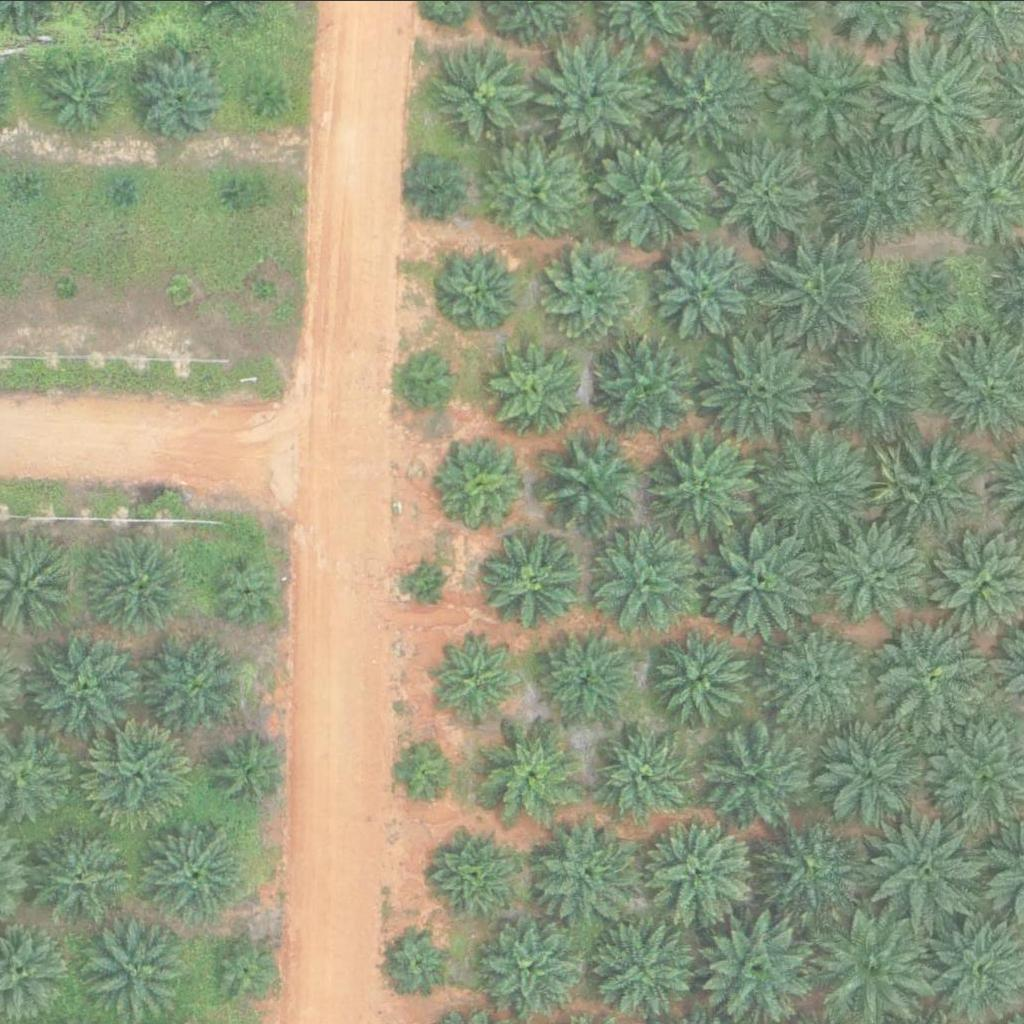Kelapa_Sawit: (863, 807, 989, 932), (701, 519, 827, 644), (758, 426, 884, 551), (700, 330, 826, 455), (759, 225, 885, 350), (590, 124, 716, 249), (819, 128, 945, 253), (639, 41, 765, 166), (870, 31, 996, 156), (640, 806, 765, 931), (871, 616, 996, 741), (649, 428, 763, 541), (590, 328, 704, 441), (27, 628, 140, 741), (817, 336, 930, 449), (539, 39, 652, 152), (771, 38, 884, 151), (88, 716, 201, 828), (124, 40, 237, 152), (584, 523, 697, 635), (820, 520, 933, 632), (869, 430, 982, 542), (651, 229, 764, 341), (708, 138, 821, 250), (145, 634, 246, 734), (36, 825, 137, 925), (143, 821, 244, 921), (81, 918, 182, 1018), (478, 917, 579, 1017), (590, 917, 691, 1017), (535, 822, 636, 922), (762, 814, 863, 914), (482, 720, 583, 820), (597, 725, 698, 825), (711, 724, 812, 824), (815, 720, 916, 820), (534, 628, 635, 728), (650, 626, 751, 726), (766, 629, 867, 729), (544, 245, 645, 345), (485, 141, 586, 241), (433, 41, 534, 141), (87, 531, 187, 631), (479, 528, 579, 628), (537, 433, 637, 533), (35, 46, 124, 134), (434, 635, 522, 723), (489, 342, 577, 430), (438, 243, 526, 331), (431, 824, 519, 911), (443, 437, 531, 524), (209, 550, 285, 625), (215, 732, 290, 807), (209, 928, 284, 1003), (905, 257, 968, 320), (408, 156, 471, 219), (388, 928, 451, 990), (389, 742, 452, 804), (401, 347, 464, 409), (246, 74, 284, 112), (409, 560, 447, 597), (22, 177, 47, 202), (57, 275, 82, 300), (169, 279, 194, 304), (253, 276, 278, 301), (111, 176, 136, 201), (221, 183, 246, 208)
